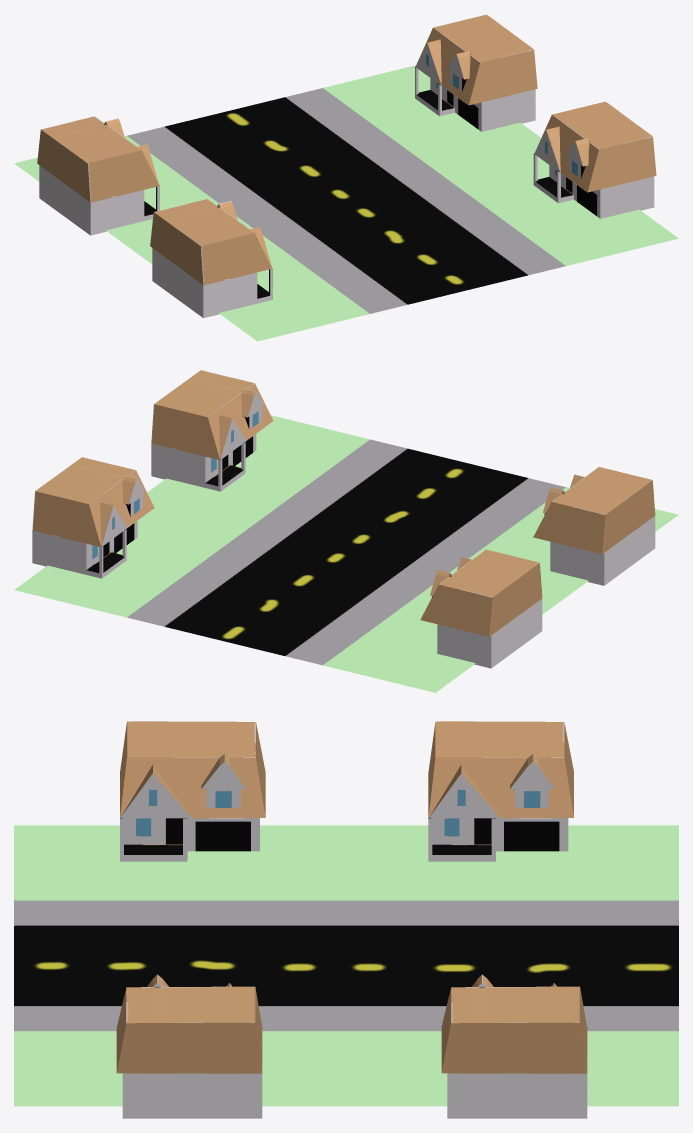
File: chunk.glb
3 views of the same model, one above another, from view 1: azimuth 30°, elevation 25°; view 2: azimuth 150°, elevation 25°; view 3: azimuth 270°, elevation 25° (orthographic). The views are drawn at different scales.
Visible parts, largest first — view 1: ground, house_01, house_04, house_03, house_02; view 2: ground, house_02, house_03, house_01, house_04; view 3: ground, house_04, house_01, house_02, house_03.
Boxes of the visible parts, bbox=[...] form: ground: bbox=[14, 65, 678, 341]; house_01: bbox=[150, 199, 272, 318]; house_04: bbox=[37, 116, 159, 235]; house_03: bbox=[533, 101, 656, 218]; house_02: bbox=[415, 14, 537, 131]; ground: bbox=[14, 415, 678, 692]; house_02: bbox=[32, 457, 154, 578]; house_03: bbox=[151, 370, 273, 491]; house_01: bbox=[533, 467, 655, 585]; house_04: bbox=[420, 549, 542, 668]; ground: bbox=[14, 825, 678, 1106]; house_04: bbox=[428, 721, 573, 861]; house_01: bbox=[120, 721, 265, 861]; house_02: bbox=[441, 974, 587, 1118]; house_03: bbox=[116, 974, 262, 1118].
Bounding box in the file's own units: 43.91 × 6.8 × 40.96.
5 materials, 5 textured.
